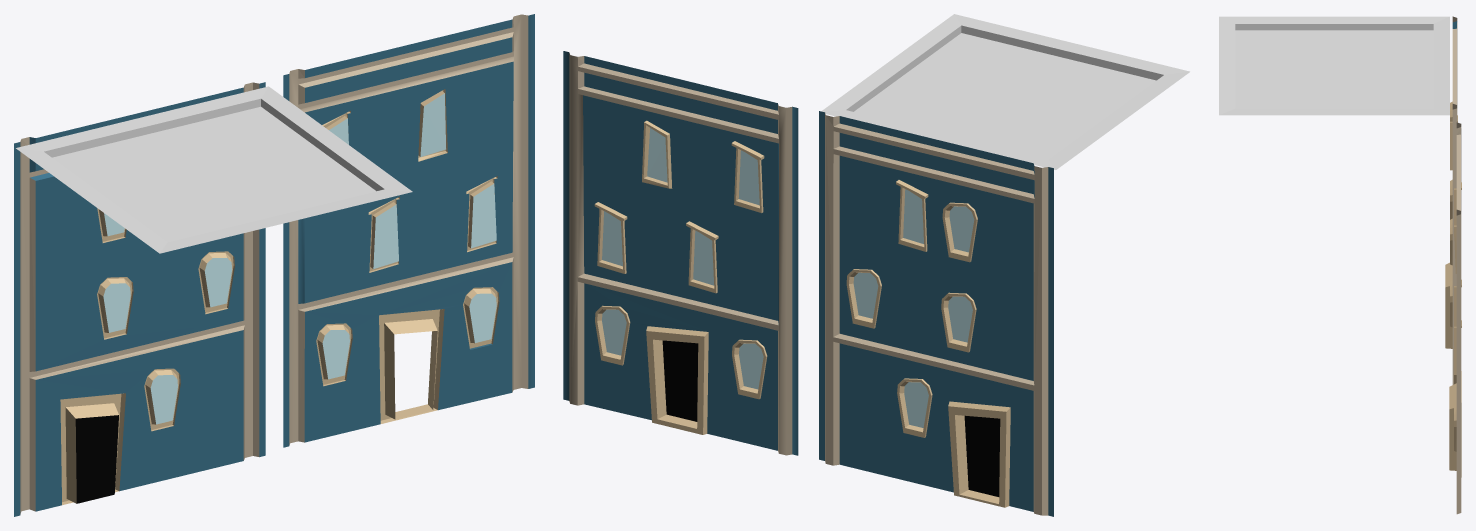
The model's file is facades.FBX.
3 renders of one model, left to right at view 1: azimuth 30°, elevation 25°; view 2: azimuth 150°, elevation 25°; view 3: azimuth 270°, elevation 25°, orthographic. The views are drawn at different scales.
Parts seen in each view (by area): view 1: facade2, facade1, toit; view 2: facade2, facade1, toit; view 3: toit, facade2, facade1.
Boxes of the visible parts, bbox=[...] form: facade2: bbox=[283, 14, 534, 447]; facade1: bbox=[14, 82, 265, 516]; toit: bbox=[16, 86, 412, 253]; facade2: bbox=[563, 51, 798, 455]; facade1: bbox=[819, 111, 1053, 516]; toit: bbox=[821, 14, 1189, 169]; toit: bbox=[1219, 16, 1449, 115]; facade2: bbox=[1449, 122, 1461, 514]; facade1: bbox=[1445, 16, 1457, 384].
Bounding box in the file's own units: 804 × 548 × 404.
